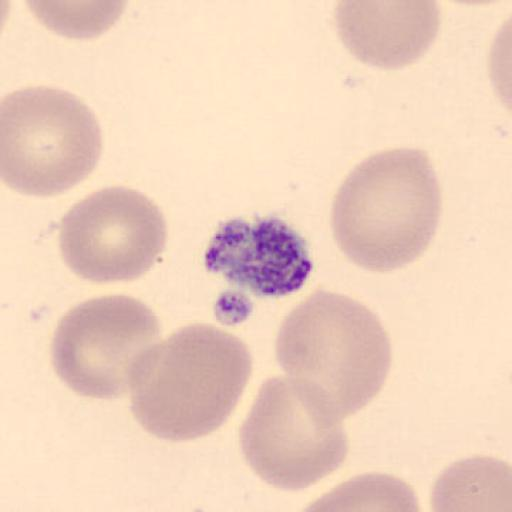Platelet: (200, 210, 318, 301)
RBC: (272, 288, 394, 423), (124, 320, 256, 444), (328, 145, 444, 275), (238, 372, 351, 494), (48, 292, 164, 402), (2, 82, 106, 200), (58, 184, 170, 286), (331, 0, 443, 72), (288, 469, 423, 512), (429, 453, 512, 512), (19, 0, 132, 42), (486, 14, 512, 116), (0, 0, 15, 42), (0, 0, 10, 52), (434, 0, 512, 6)
